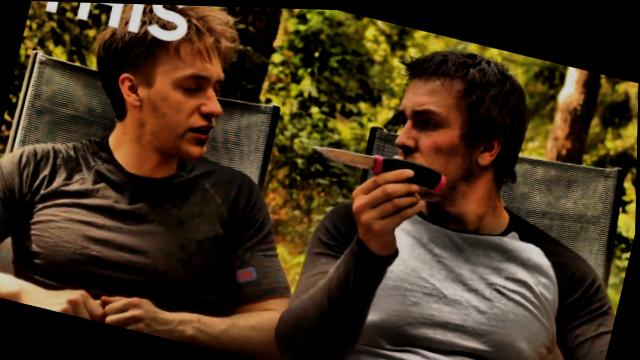knife: (296, 126, 456, 208)
